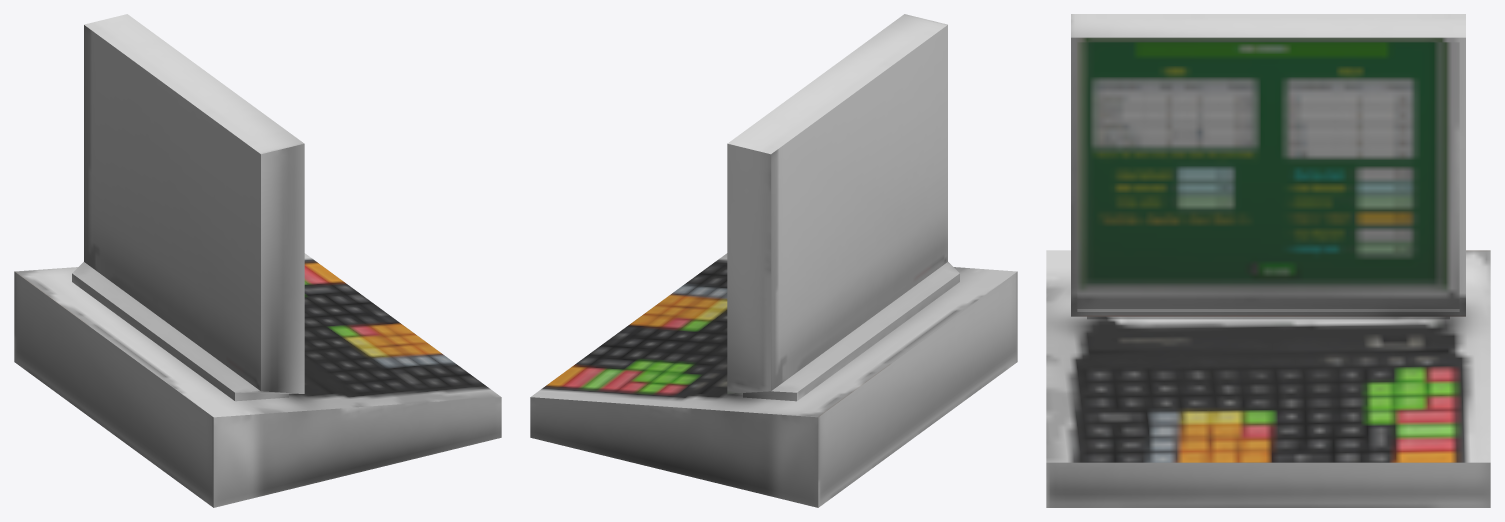
File: Computer.fbx
3 renders of one model, left to right at view 1: azimuth 30°, elevation 25°; view 2: azimuth 150°, elevation 25°; view 3: azimuth 270°, elevation 25°, orthographic. The views are drawn at different scales.
Parts seen in each view (by area): view 1: Computer; view 2: Computer; view 3: Computer.
Boxes of the visible parts, box(x1,y1,x2,y2) form: Computer: box(14, 14, 501, 507); Computer: box(530, 14, 1017, 507); Computer: box(1046, 14, 1490, 507).
Size of the model in its own units: 12.34 by 13.57 by 14.79.
1 material, 1 textured.
